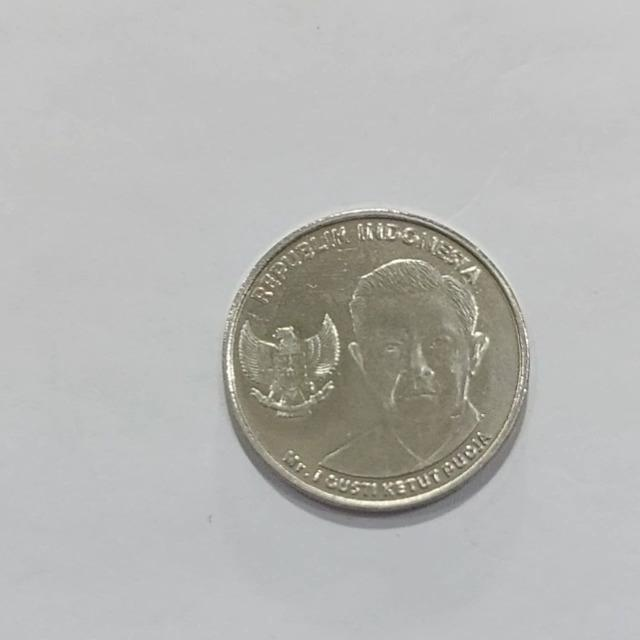Rp100: (221, 207, 531, 514), (312, 255, 493, 480)
